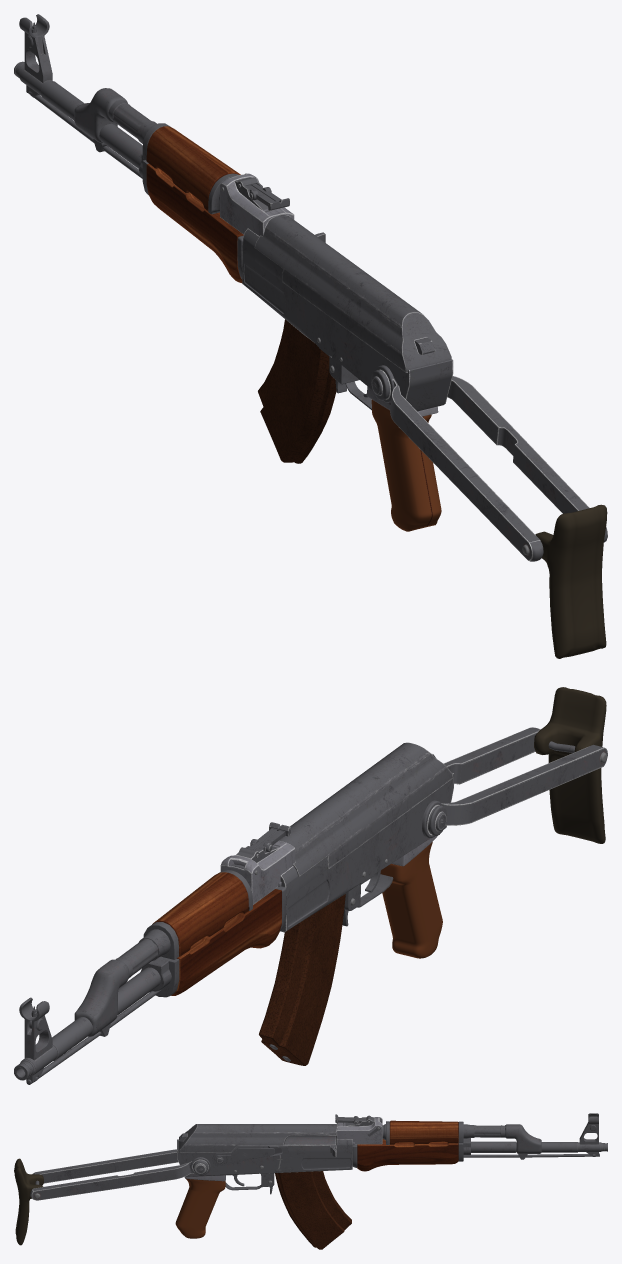
3 views of the same model, one above another, from view 1: azimuth 30°, elevation 25°; view 2: azimuth 150°, elevation 25°; view 3: azimuth 270°, elevation 25° (orthographic). The views are drawn at different scales.
Parts seen in each view (by area): view 1: ak47_body, mag; view 2: ak47_body, mag; view 3: ak47_body, mag.
Boxes of the visible parts, x1,y1,x2,y2 form: ak47_body: (14,14,607,658); mag: (258,319,336,463); ak47_body: (14,687,607,1084); mag: (259,894,345,1065); ak47_body: (14,1113,607,1245); mag: (275,1171,351,1249).
Bounding box in the file's own units: 0.0761 × 0.2143 × 0.874.
11 materials, 11 textured.
